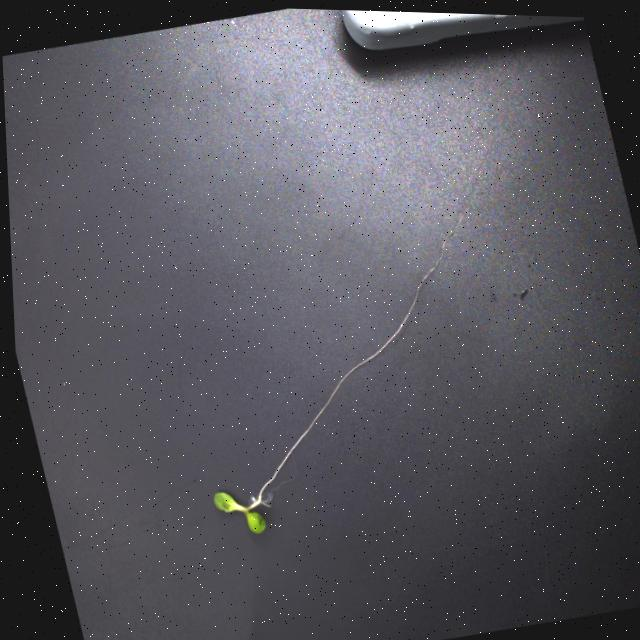leaf: (208, 487, 266, 539)
root: (258, 204, 471, 502)
steb: (243, 485, 269, 517)
